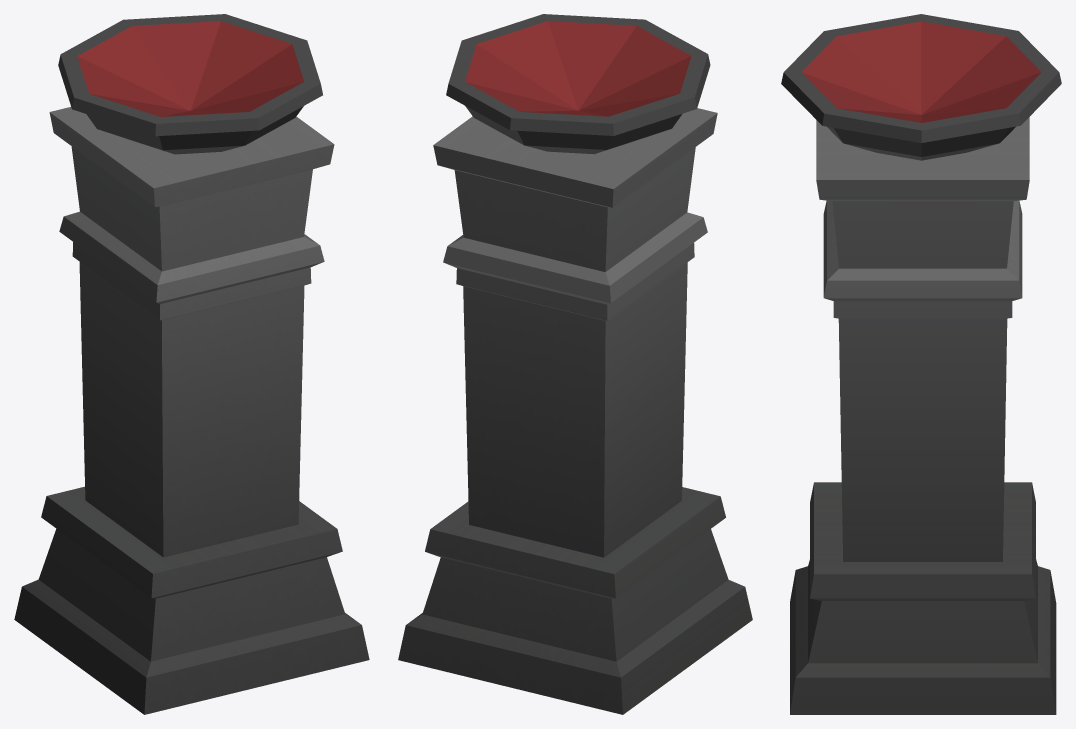
Rendered from ZLPC_Torch_06.FBX.
3 renders of one model, left to right at view 1: azimuth 30°, elevation 25°; view 2: azimuth 150°, elevation 25°; view 3: azimuth 270°, elevation 25°, orthographic. The views are drawn at different scales.
Visible parts, largest first — view 1: ZLPC_Torch_06; view 2: ZLPC_Torch_06; view 3: ZLPC_Torch_06.
Part boxes in pixels (x1,y1,x2,y2): ZLPC_Torch_06: (14, 14, 369, 714); ZLPC_Torch_06: (398, 14, 752, 714); ZLPC_Torch_06: (781, 14, 1061, 714).
Bounding box in the file's own units: 100 × 230 × 100.
Materials: 1 (1 with a texture image).
